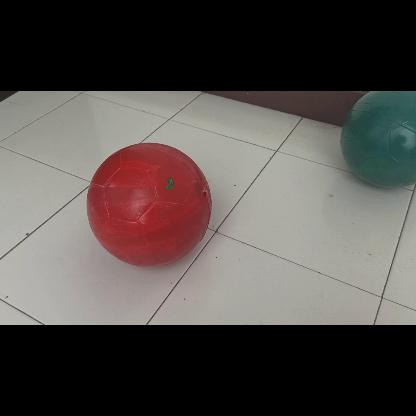red_ball: (82, 141, 207, 266)
